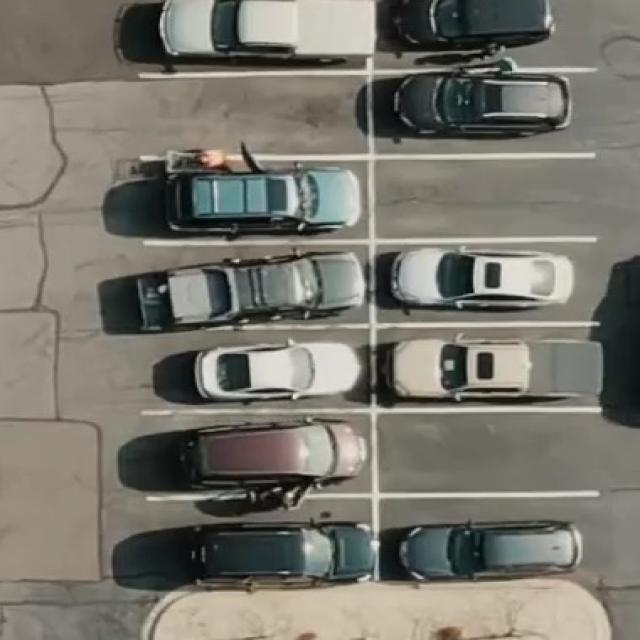space-empty: (136, 68, 369, 160), (371, 151, 596, 245), (374, 408, 599, 497)
space-occupied: (120, 495, 377, 592), (111, 236, 371, 330), (372, 317, 605, 411), (133, 408, 376, 497), (134, 154, 370, 245), (369, 62, 586, 159), (140, 322, 372, 411), (379, 493, 603, 582), (372, 235, 595, 323), (131, 0, 374, 72), (372, 0, 563, 64)
